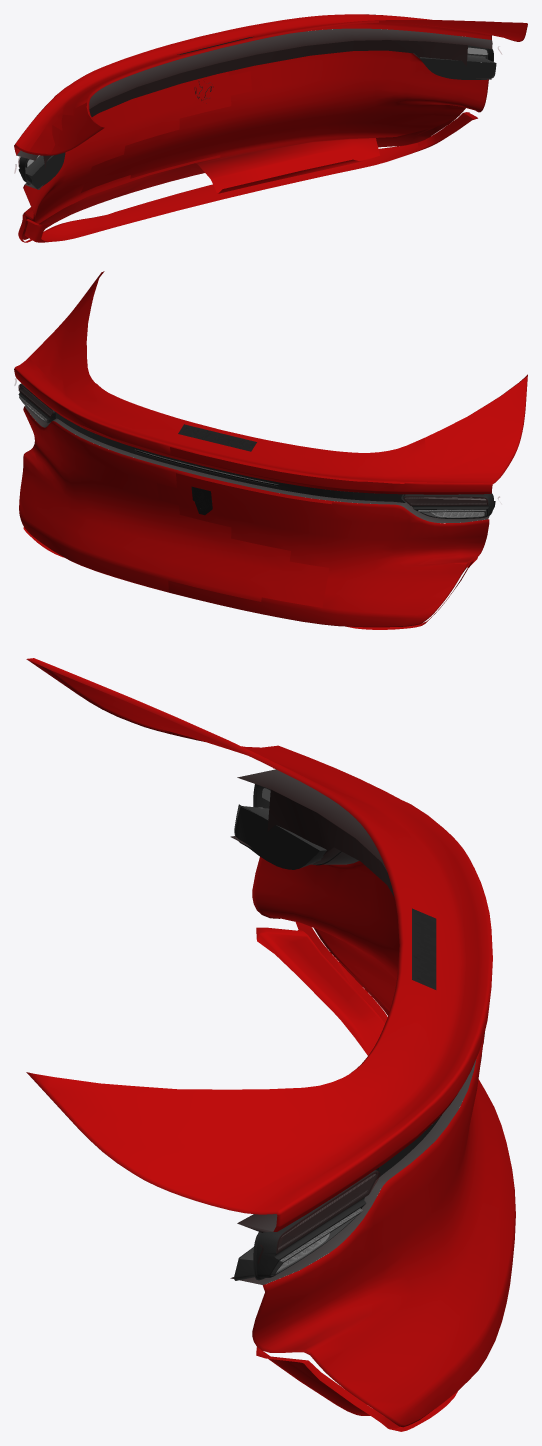
The model's file is bagage.glb.
3 renders of one model, top to bottom at view 1: azimuth 30°, elevation 25°; view 2: azimuth 150°, elevation 25°; view 3: azimuth 270°, elevation 25°, orthographic. The views are drawn at different scales.
Visible parts, largest first — view 1: Paint_Geo_lodA_Ferrari_PurosangueRewardRecycled_2023Paint_M., Window_Geo_lodA_Ferrari_PurosangueRewardRecycled_2023Window.; view 2: Paint_Geo_lodA_Ferrari_PurosangueRewardRecycled_2023Paint_M., Window_Geo_lodA_Ferrari_PurosangueRewardRecycled_2023Window.; view 3: Paint_Geo_lodA_Ferrari_PurosangueRewardRecycled_2023Paint_M., Window_Geo_lodA_Ferrari_PurosangueRewardRecycled_2023Window..
Boxes of the visible parts, x1=… form: Paint_Geo_lodA_Ferrari_PurosangueRewardRecycled_2023Paint_M.: x1=14, y1=14, x2=527, y2=242; Window_Geo_lodA_Ferrari_PurosangueRewardRecycled_2023Window.: x1=18, y1=45, x2=496, y2=189; Paint_Geo_lodA_Ferrari_PurosangueRewardRecycled_2023Paint_M.: x1=14, y1=271, x2=527, y2=629; Window_Geo_lodA_Ferrari_PurosangueRewardRecycled_2023Window.: x1=18, y1=383, x2=495, y2=518; Paint_Geo_lodA_Ferrari_PurosangueRewardRecycled_2023Paint_M.: x1=26, y1=658, x2=515, y2=1431; Window_Geo_lodA_Ferrari_PurosangueRewardRecycled_2023Window.: x1=234, y1=784, x2=441, y2=1280.
Bounding box in the file's own units: 0.0136 × 0.00516 × 0.00591.
7 materials, 2 textured.
